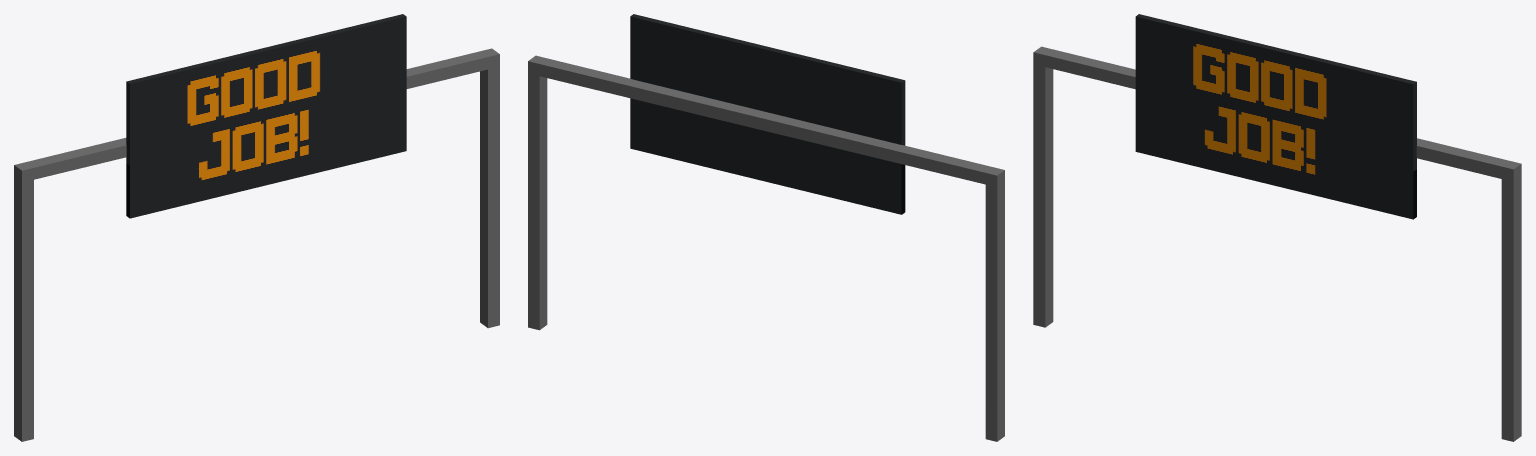
Rendered from bigsign.dae.
The picture shows the model from 3 angles, left to right: view 1: azimuth 30°, elevation 25°; view 2: azimuth 150°, elevation 25°; view 3: azimuth 330°, elevation 25°; orthographic projection. The views are drawn at different scales.
Parts seen in each view (by area): view 1: Cube; view 2: Cube; view 3: Cube.
Boxes of the visible parts, x1,y1,x2,y2 form: Cube: (14, 14, 499, 441); Cube: (528, 14, 1004, 441); Cube: (1033, 14, 1521, 441).
Bounding box in the file's own units: 7.43 × 0.2983 × 4.97.
